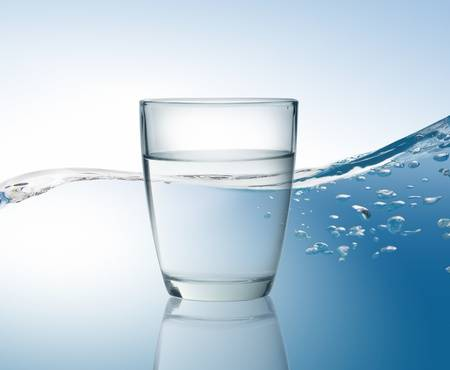glass of water: (135, 90, 304, 320)
